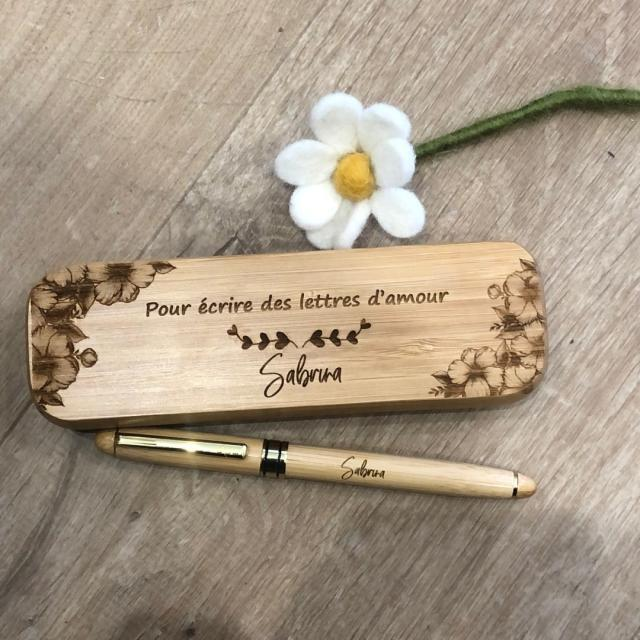pen: (94, 428, 538, 501)
